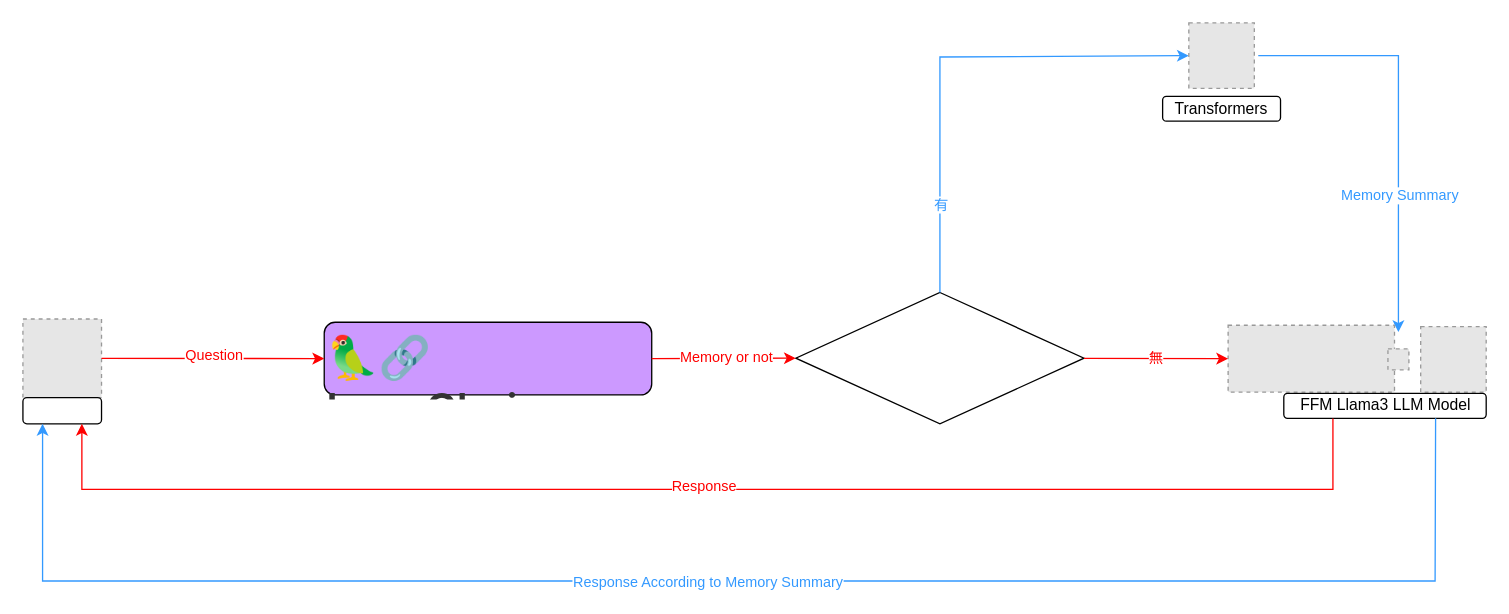
The diagram is 1509 pixels wide and 614 high, and some of its shapes have lost their labels. Grey dashed boxes stand in for pictures. Each missing label, with the box of its shape:
User: (22, 396, 102, 424)
是否選取Memory，即是否要 紀錄前面的對話紀錄。: (795, 291, 1084, 424)
